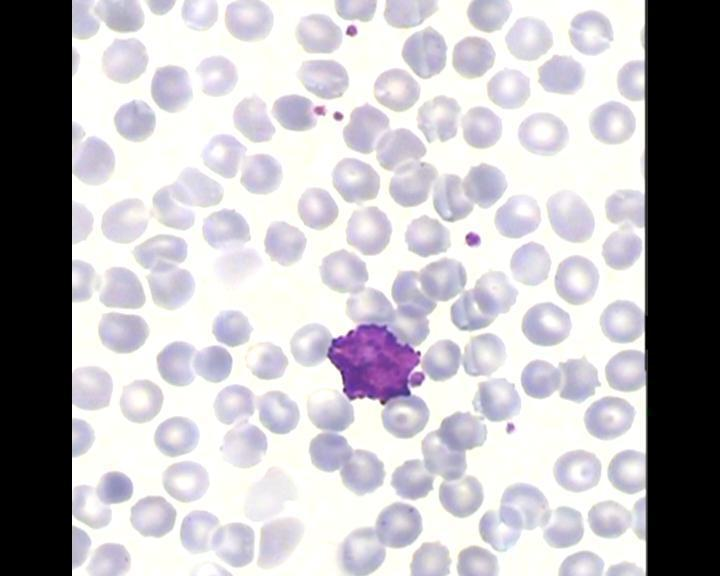baso: (322, 321, 424, 404)
